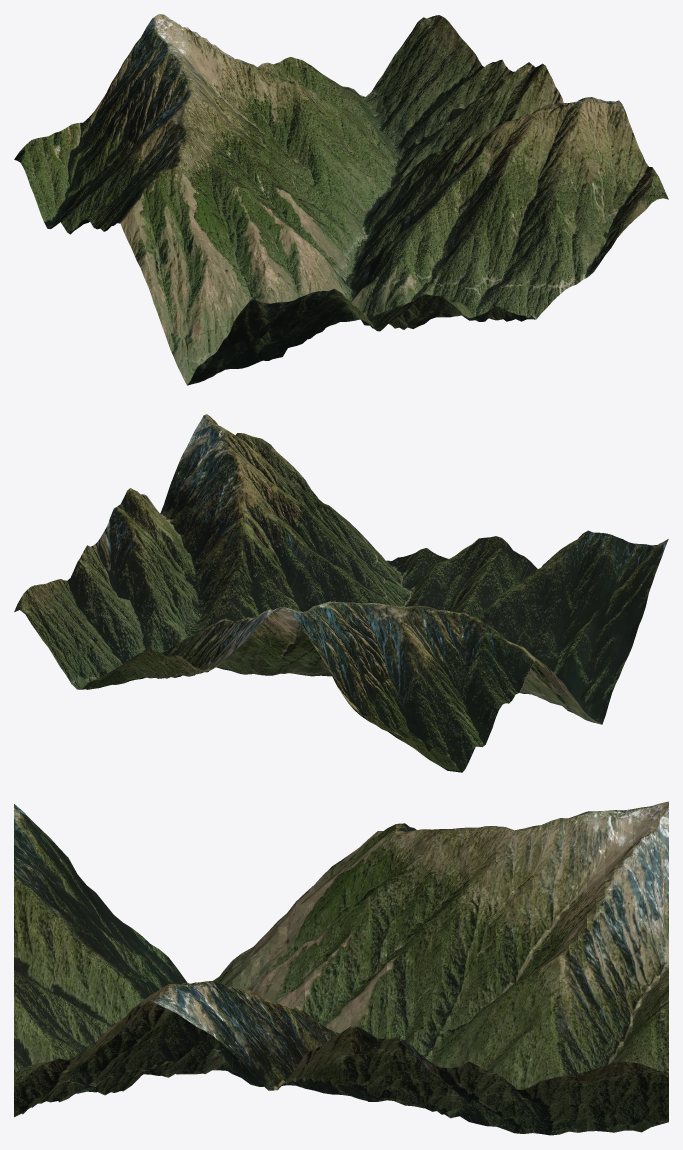
The picture shows the model from 3 angles, top to bottom: view 1: azimuth 30°, elevation 25°; view 2: azimuth 150°, elevation 25°; view 3: azimuth 270°, elevation 25°; orthographic projection. The views are drawn at different scales.
Parts seen in each view (by area): view 1: Layer 01; view 2: Layer 01; view 3: Layer 01.
Part boxes in pixels (x1,y1,x2,y2): Layer 01: (14,14,668,385); Layer 01: (14,414,668,772); Layer 01: (14,801,668,1135).
Size of the model in its own units: 0.402 by 0.1936 by 0.402.
Materials: 1 (1 with a texture image).
